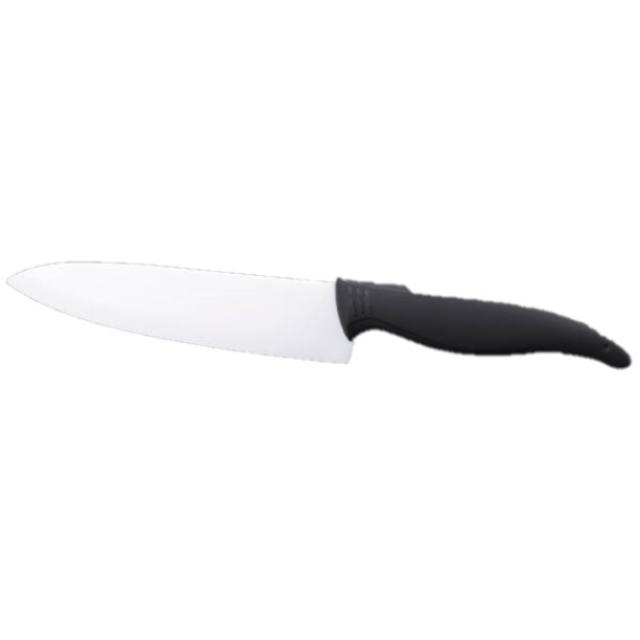knife: (1, 257, 637, 395)
